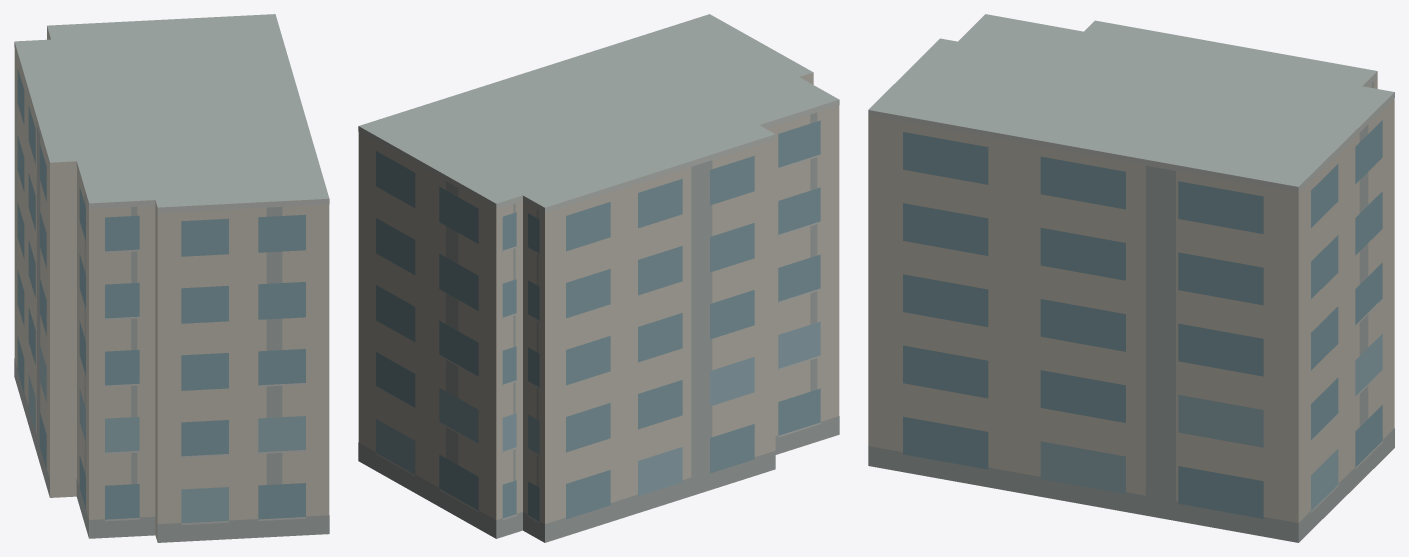
File: survey-upis-32656480.glb
3 renders of one model, left to right at view 1: azimuth 30°, elevation 25°; view 2: azimuth 150°, elevation 25°; view 3: azimuth 270°, elevation 25°, orthographic. The views are drawn at different scales.
Visible parts, largest first — view 1: survey-upis-32656480.tmp; view 2: survey-upis-32656480.tmp; view 3: survey-upis-32656480.tmp.
Boxes of the visible parts, x1,y1,x2,y2 form: survey-upis-32656480.tmp: (14, 14, 329, 542); survey-upis-32656480.tmp: (358, 14, 839, 542); survey-upis-32656480.tmp: (868, 14, 1394, 542).
Size of the model in its own units: 15.01 by 14.4 by 19.31.
